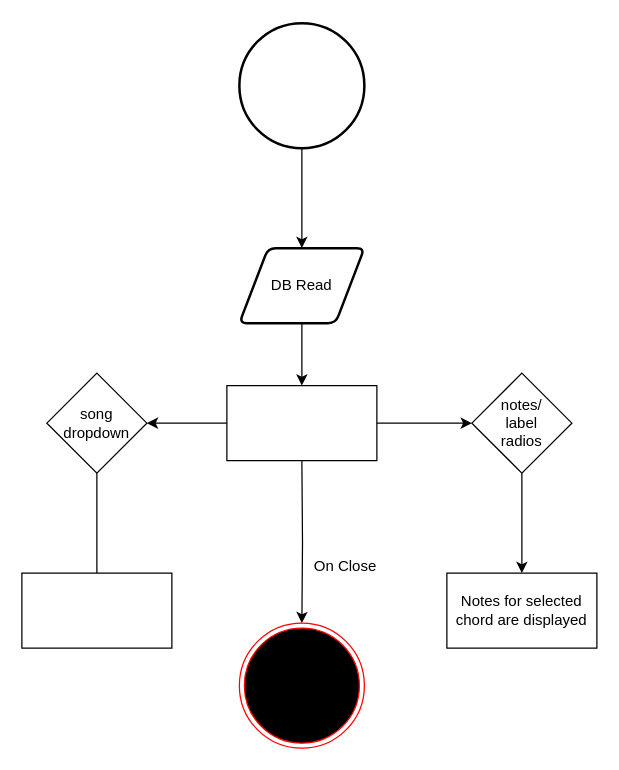
The diagram is 619 pixels wide and 770 high, and some of its shapes have lost their labels. Each missing label, with the box of its shape:
chords for selected song are displayed in main view: (21, 572, 172, 648)
Main View: (226, 384, 377, 461)
